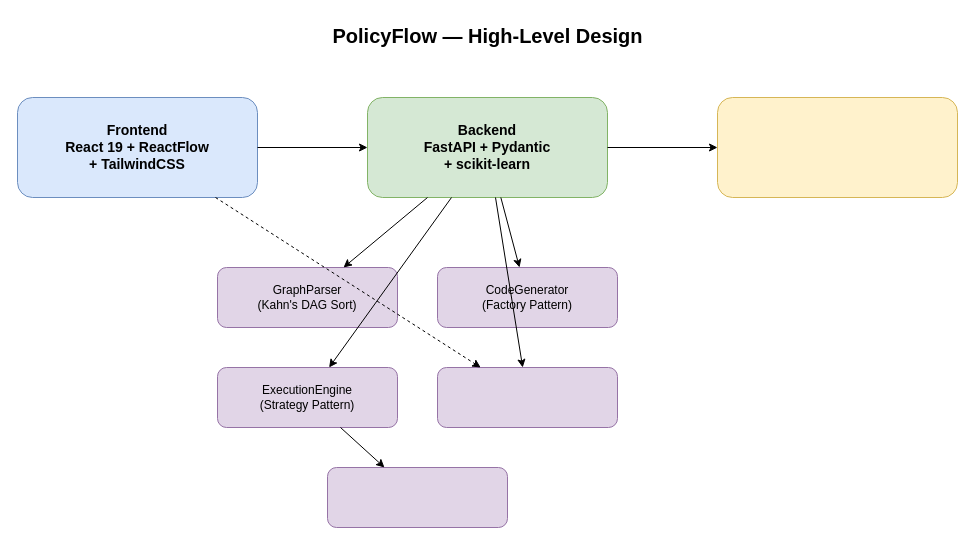
This 975x545 diagram has some shape labels left out. Each missing label, with the box of its shape:
Desktop PyInstaller + pywebview: (716, 96, 958, 198)
NodeRegistry (Singleton): (326, 466, 508, 528)
WebSocketManager (Observer Pattern): (436, 366, 618, 428)
